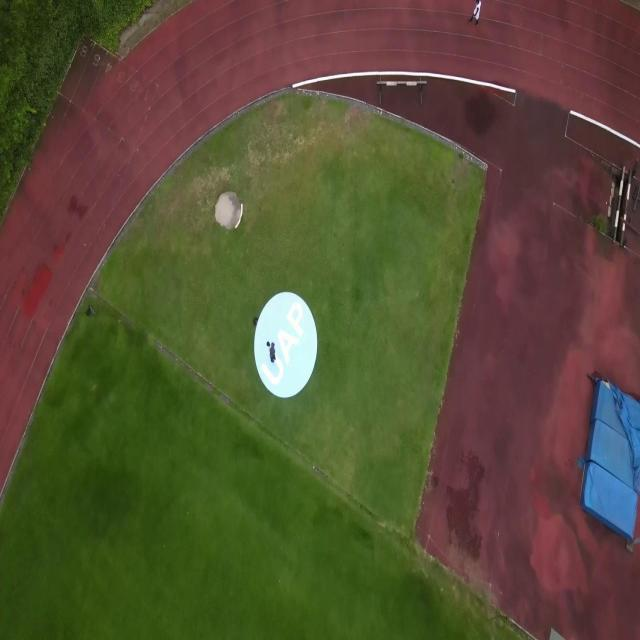p3rson: (466, 0, 484, 33), (265, 338, 276, 364)
